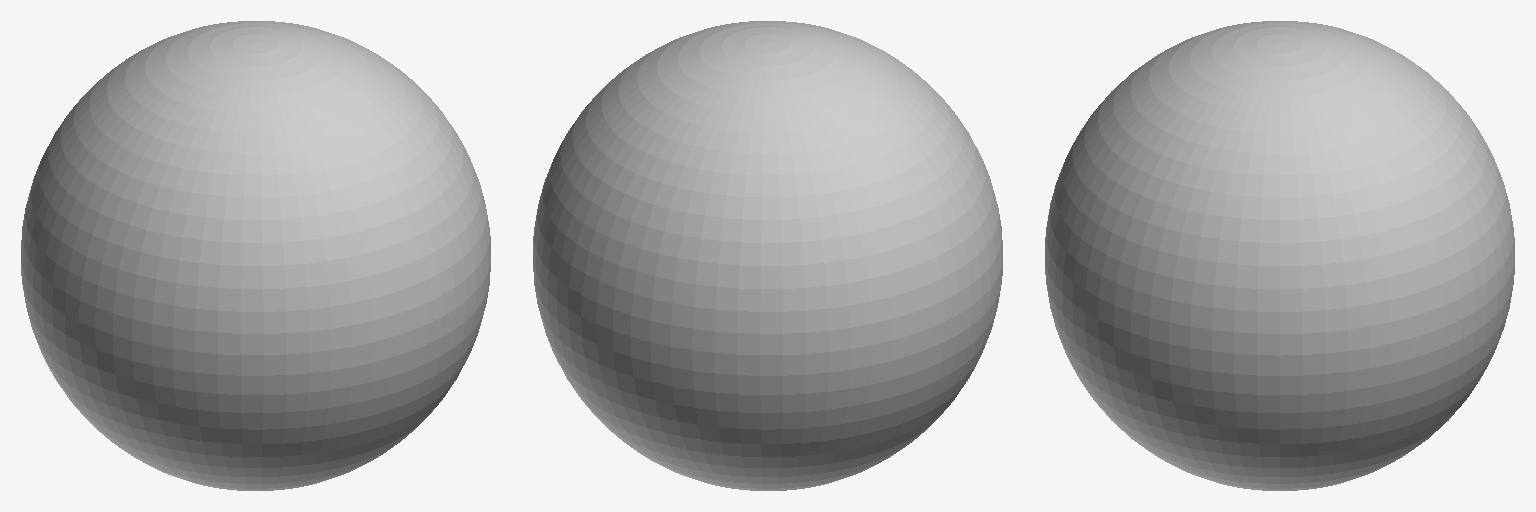
The model's file is ball3.obj.
The picture shows the model from 3 angles: view 1: azimuth 30°, elevation 25°; view 2: azimuth 150°, elevation 25°; view 3: azimuth 270°, elevation 25°; orthographic projection.
Visible parts, largest first — view 1: Sphere; view 2: Sphere; view 3: Sphere.
Part boxes in pixels (left/top/right/bottom): Sphere: left=21, top=21, right=490, bottom=490; Sphere: left=533, top=21, right=1002, bottom=490; Sphere: left=1045, top=21, right=1514, bottom=490.
Bounding box in the file's own units: 2 × 2 × 2.